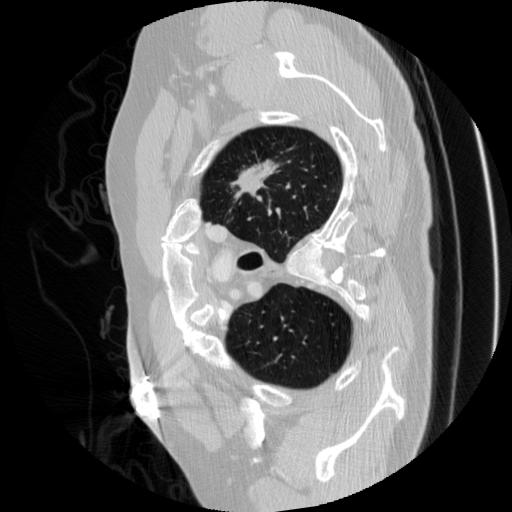nodule: (235, 157, 278, 200)
